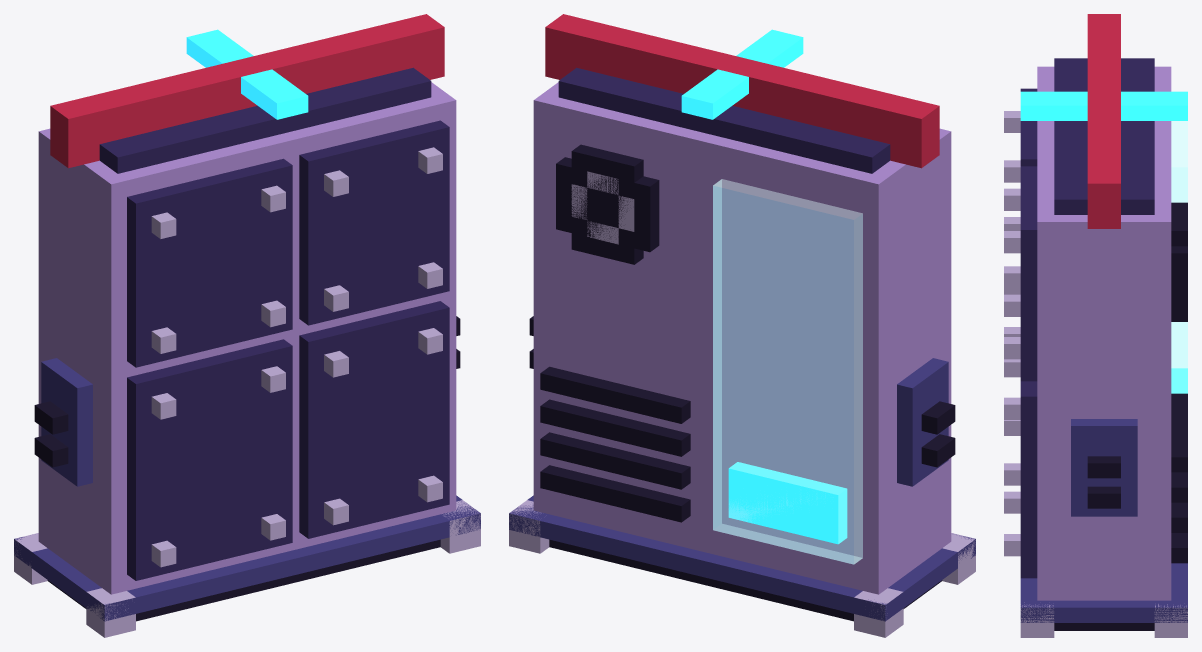
The model's file is life-support.md.glb.
3 views of the same model, side by side, from view 1: azimuth 30°, elevation 25°; view 2: azimuth 150°, elevation 25°; view 3: azimuth 270°, elevation 25° (orthographic). The views are drawn at different scales.
Visible parts, largest first — view 1: life-support.md; view 2: life-support.md; view 3: life-support.md.
Boxes of the visible parts, x1,y1,x2,y2 form: life-support.md: (14, 14, 480, 637); life-support.md: (509, 14, 975, 637); life-support.md: (1004, 14, 1187, 637).
Size of the model in its own units: 1.62 by 1.88 by 0.6875.
